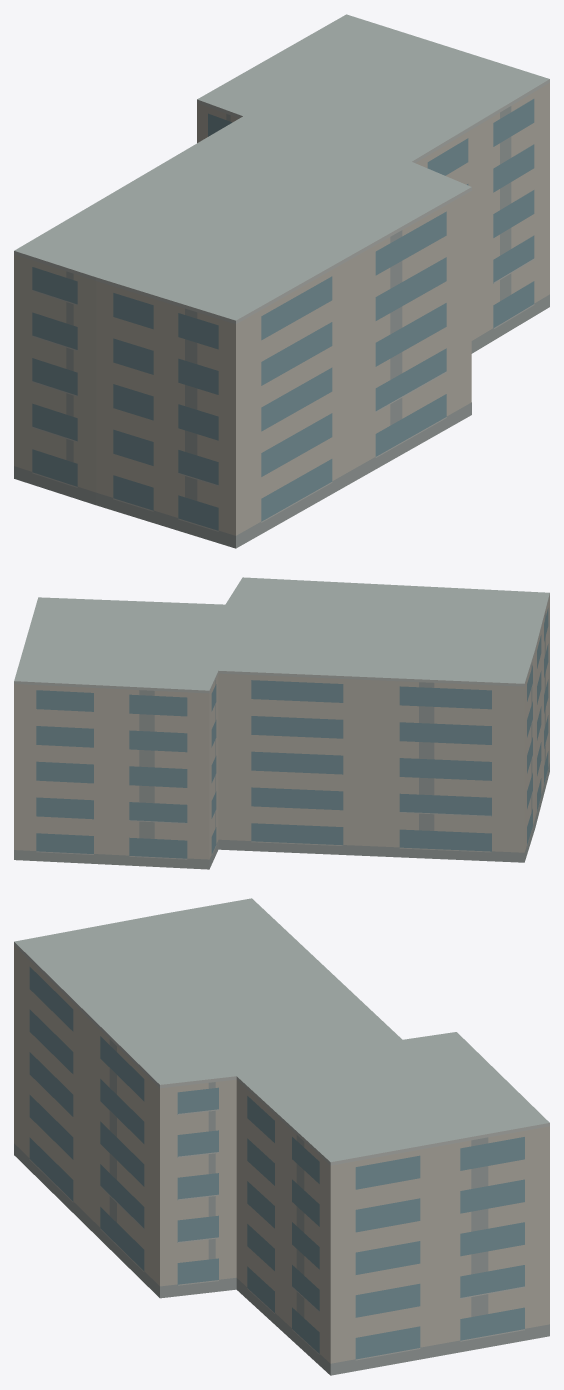
File: survey-upis-32700301.glb
3 renders of one model, top to bottom at view 1: azimuth 30°, elevation 25°; view 2: azimuth 150°, elevation 25°; view 3: azimuth 270°, elevation 25°, orthographic. The views are drawn at different scales.
Parts seen in each view (by area): view 1: survey-upis-32700301.tmp; view 2: survey-upis-32700301.tmp; view 3: survey-upis-32700301.tmp.
Part boxes in pixels (x1,y1,x2,y2): survey-upis-32700301.tmp: (14, 14, 549, 548); survey-upis-32700301.tmp: (14, 577, 549, 869); survey-upis-32700301.tmp: (14, 898, 549, 1375).
Bounding box in the file's own units: 40.46 × 15.25 × 34.71.
